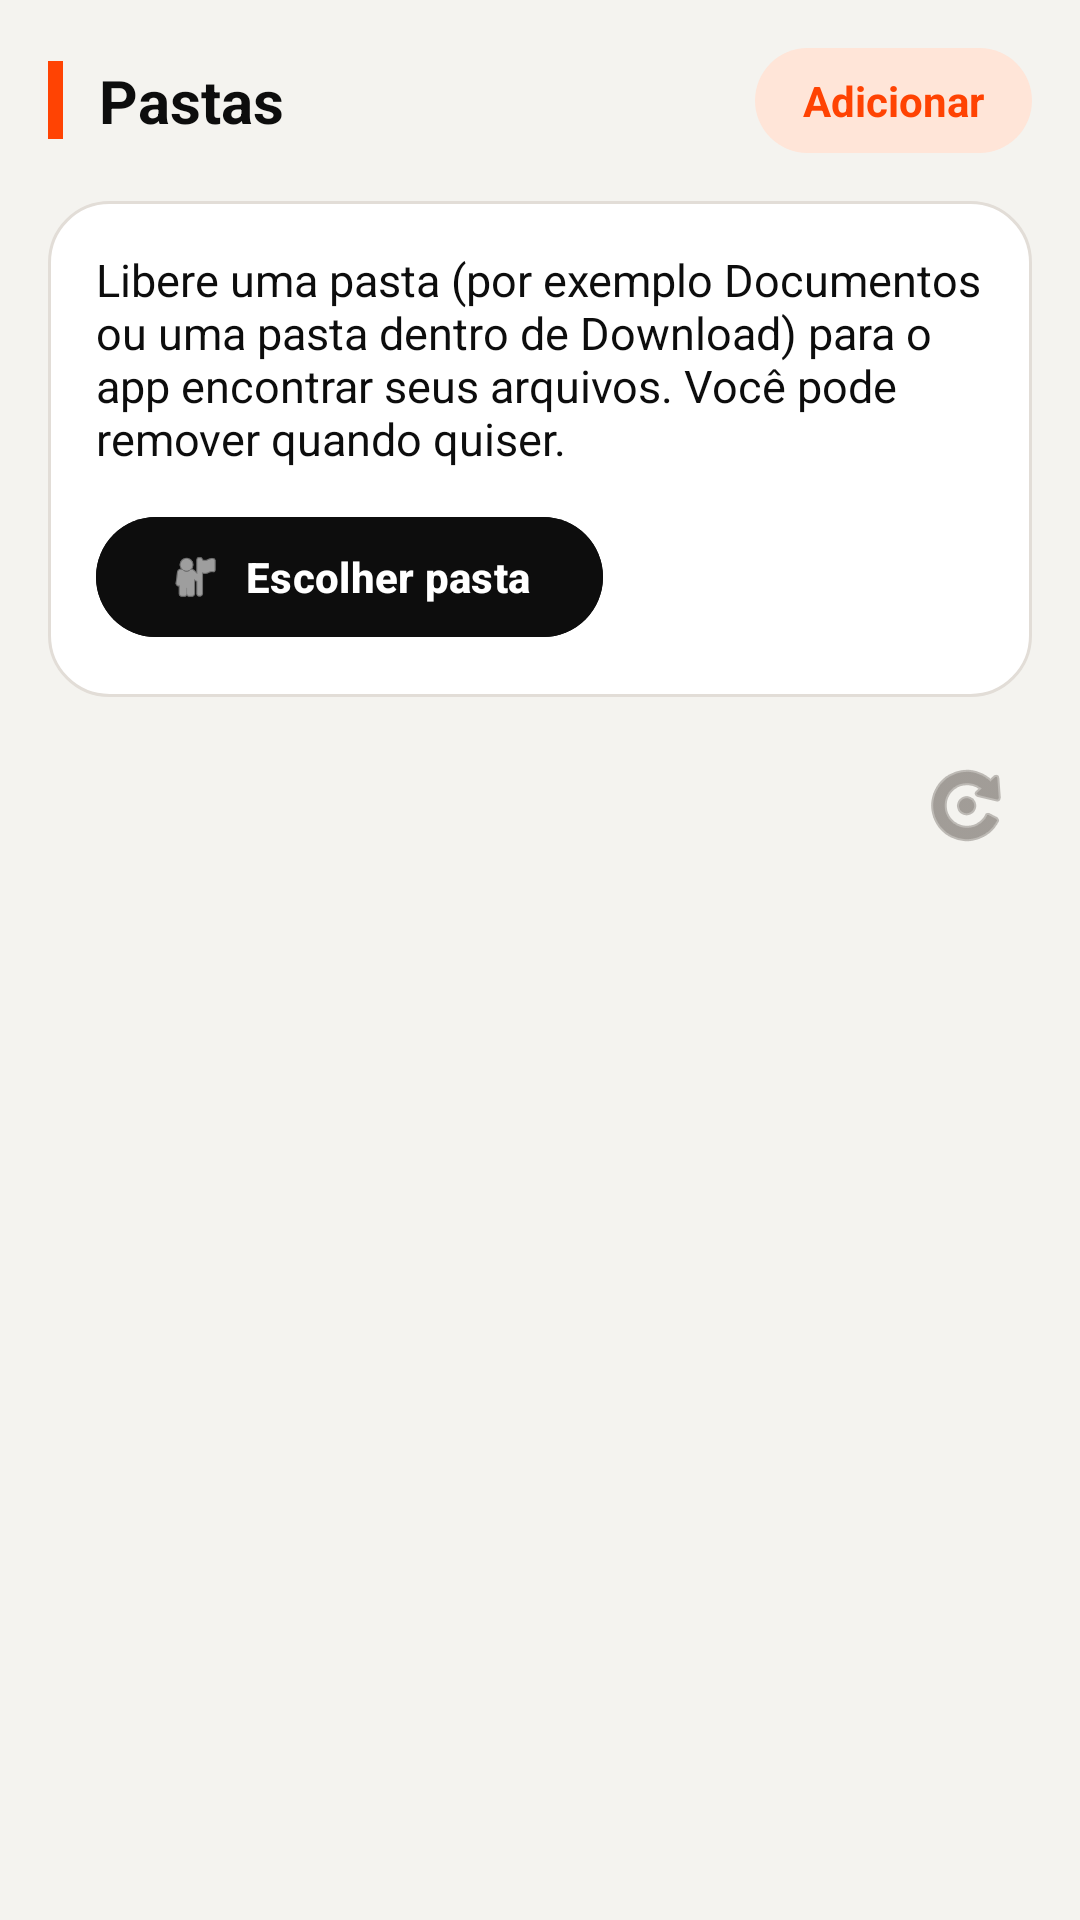

Icons on this 1080×1920 Android screen, each with its box as (x1, y1, x2, y2):
Atualizar: (931, 770, 1001, 841)
